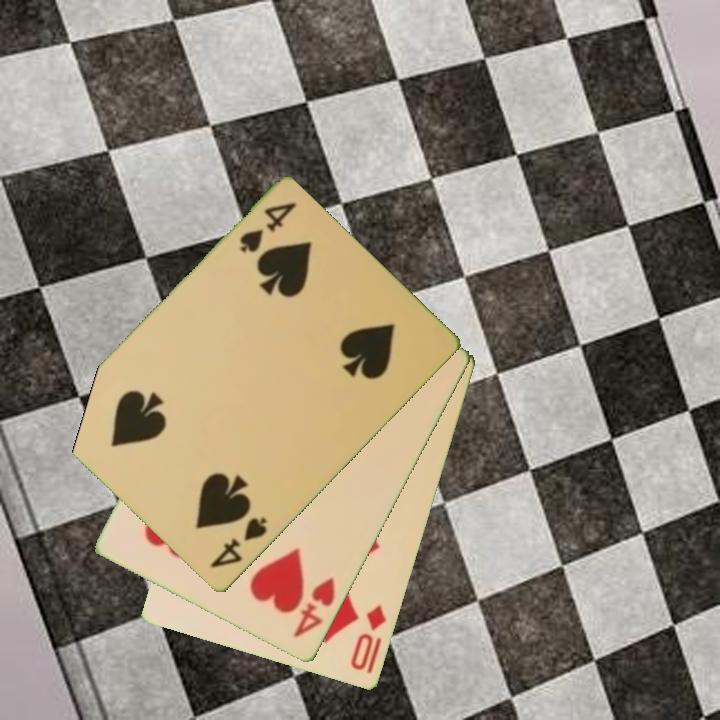10d: (347, 601, 390, 677)
4h: (290, 573, 339, 641)
4s: (206, 514, 271, 572), (236, 199, 300, 257)
